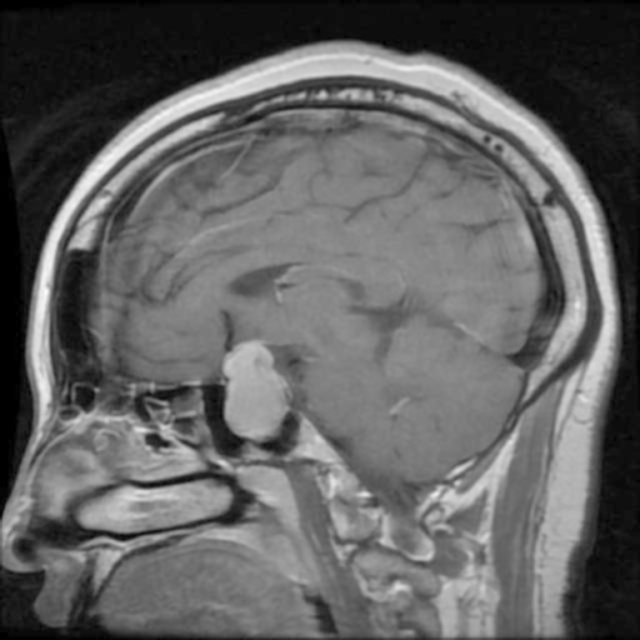no tumor: (225, 336, 299, 452)
